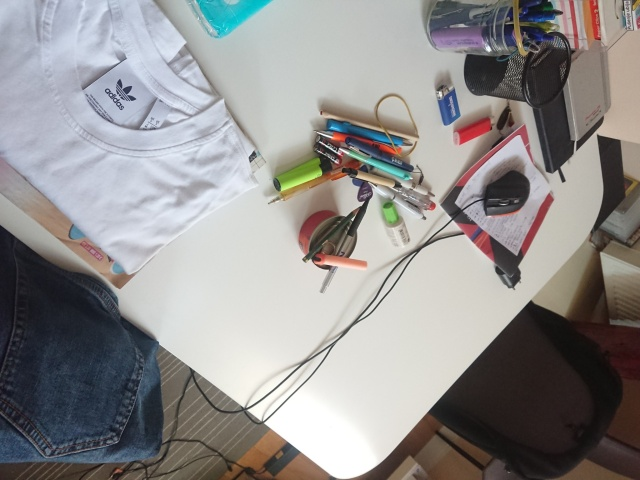Gavrilovic Pork Liver Pate 100g: (296, 207, 359, 271)
